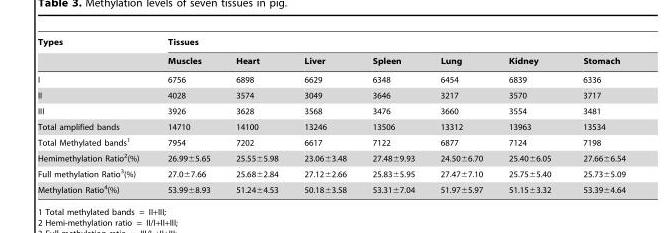table: (37, 37, 624, 194)
table column: (37, 37, 152, 194), (495, 37, 566, 194), (152, 37, 222, 194), (358, 37, 427, 194), (222, 37, 290, 194), (290, 37, 358, 194), (427, 37, 495, 194), (566, 37, 624, 194)
table column header: (37, 37, 624, 70)
table row: (37, 51, 624, 70), (37, 70, 624, 87), (37, 87, 624, 103), (37, 133, 624, 149), (37, 149, 624, 165), (37, 165, 624, 181), (37, 103, 624, 118), (37, 118, 624, 133), (37, 37, 624, 51), (37, 181, 624, 194)
table spanning cell: (152, 37, 624, 51), (37, 37, 152, 70)
